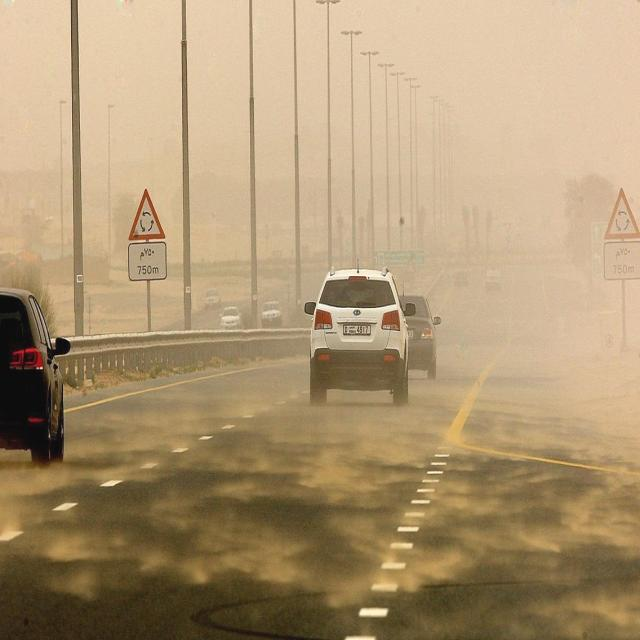Car: (305, 266, 418, 413), (0, 283, 75, 466), (394, 290, 444, 384), (218, 302, 246, 330), (259, 300, 286, 328), (201, 282, 224, 313)
